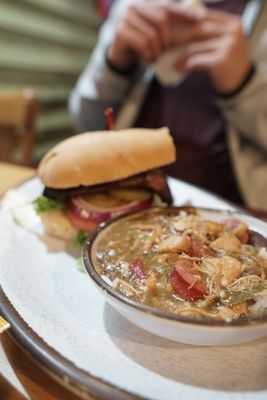soup: (31, 126, 177, 251)
